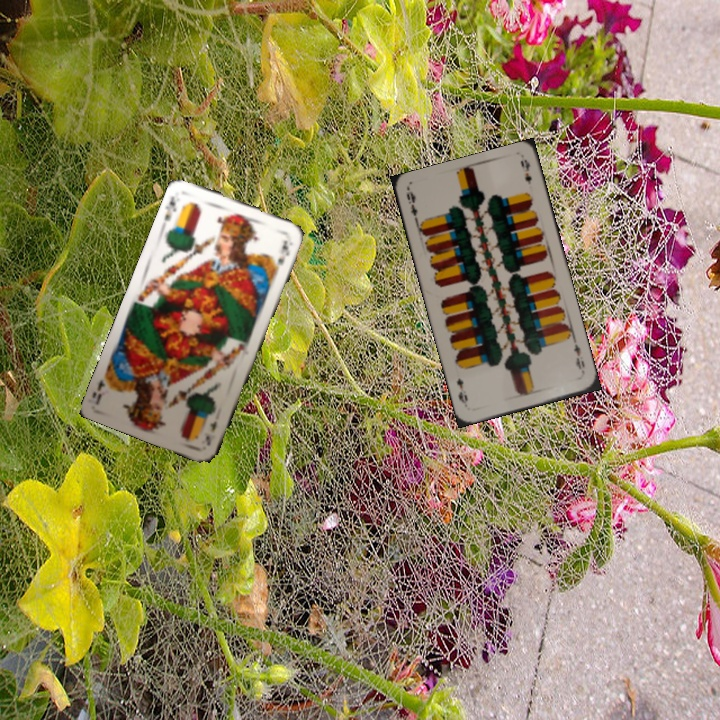E9: (402, 187, 426, 227), (570, 340, 587, 377)
EK: (201, 416, 220, 448), (160, 192, 179, 224)
